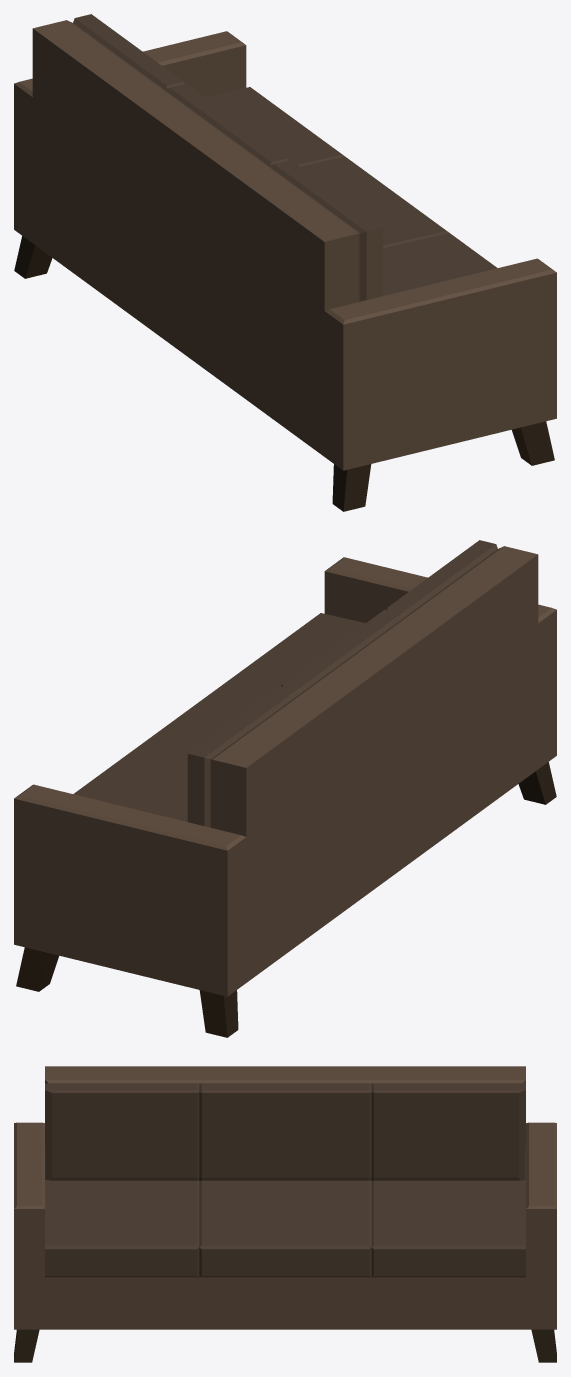
File: sofaWithLegs.fbx
3 renders of one model, top to bottom at view 1: azimuth 30°, elevation 25°; view 2: azimuth 150°, elevation 25°; view 3: azimuth 270°, elevation 25°, orthographic. The views are drawn at different scales.
Parts seen in each view (by area): view 1: sofaWithLegs.001; view 2: sofaWithLegs.001; view 3: sofaWithLegs.001.
Boxes of the visible parts, box(x1,y1,x2,y2) form: sofaWithLegs.001: box(14, 14, 556, 511); sofaWithLegs.001: box(14, 540, 556, 1037); sofaWithLegs.001: box(14, 1066, 556, 1362).
Bounding box in the file's own units: 117 × 131 × 304.
Materials: 1 (1 with a texture image).
